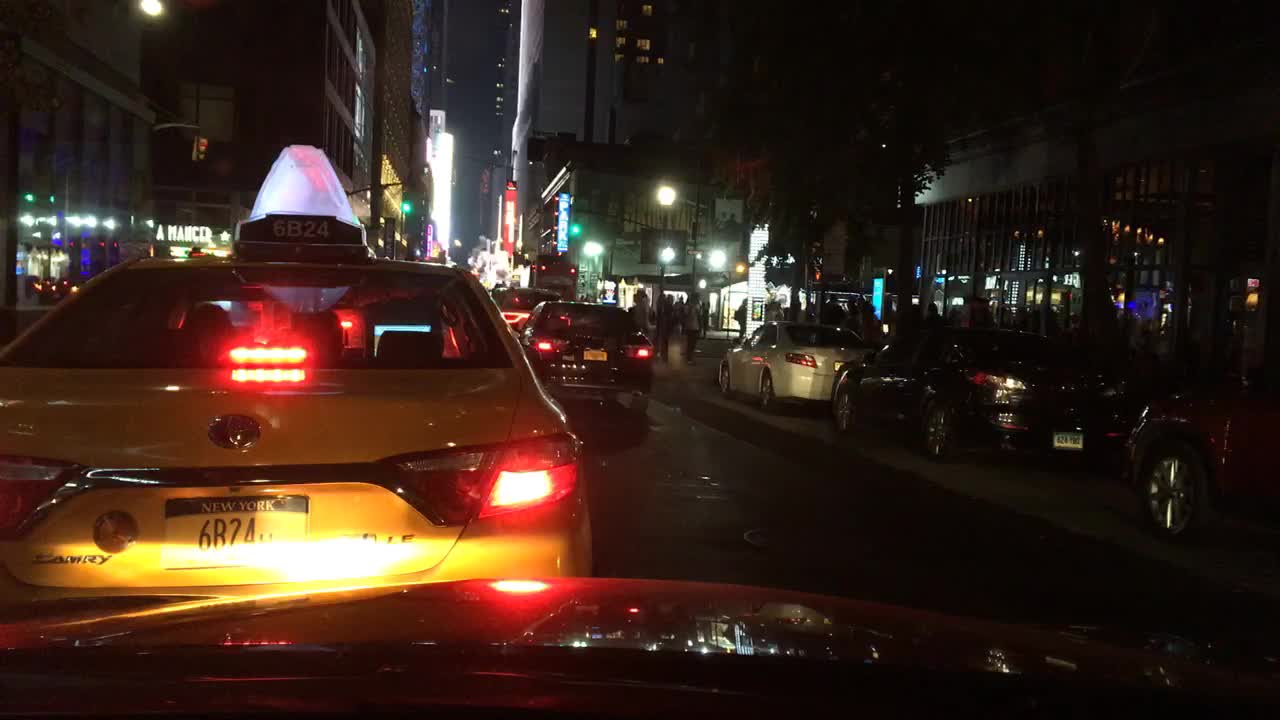car: (0, 144, 596, 612), (828, 324, 1133, 465), (1115, 329, 1277, 552), (515, 299, 658, 429), (714, 317, 870, 412), (494, 284, 562, 325), (38, 276, 87, 307)
person: (685, 291, 702, 368), (648, 293, 665, 355), (663, 293, 676, 354), (823, 293, 841, 328), (845, 297, 859, 332), (736, 299, 747, 338), (701, 299, 712, 330), (675, 294, 685, 321)
traffic light: (189, 136, 208, 161), (571, 222, 581, 238), (400, 198, 410, 213), (506, 406, 519, 408)
